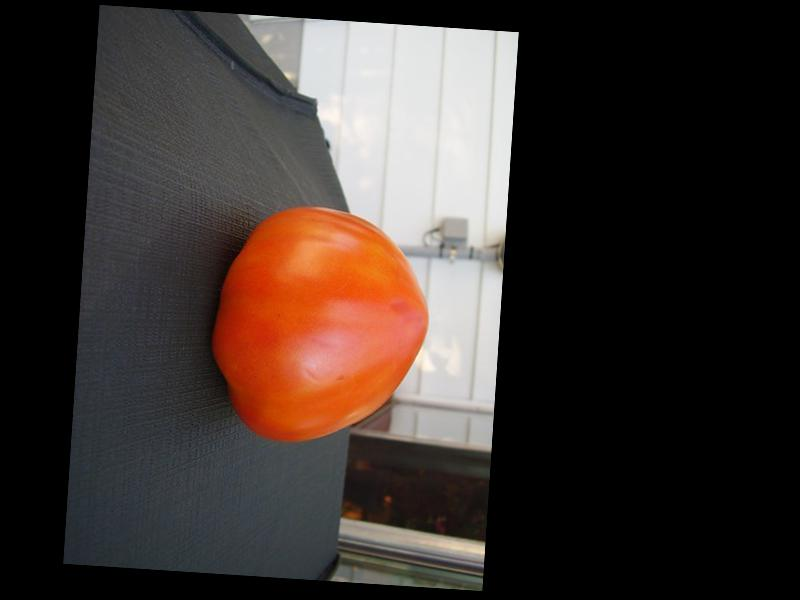Tomato: (208, 201, 436, 450)
